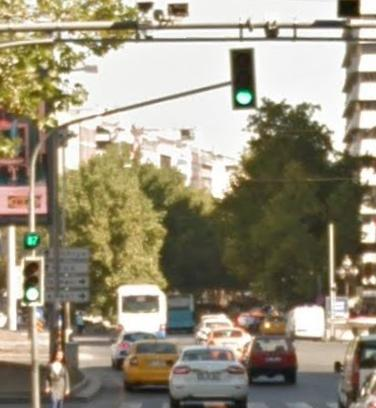greenlight: (234, 49, 257, 108), (23, 258, 42, 309)
